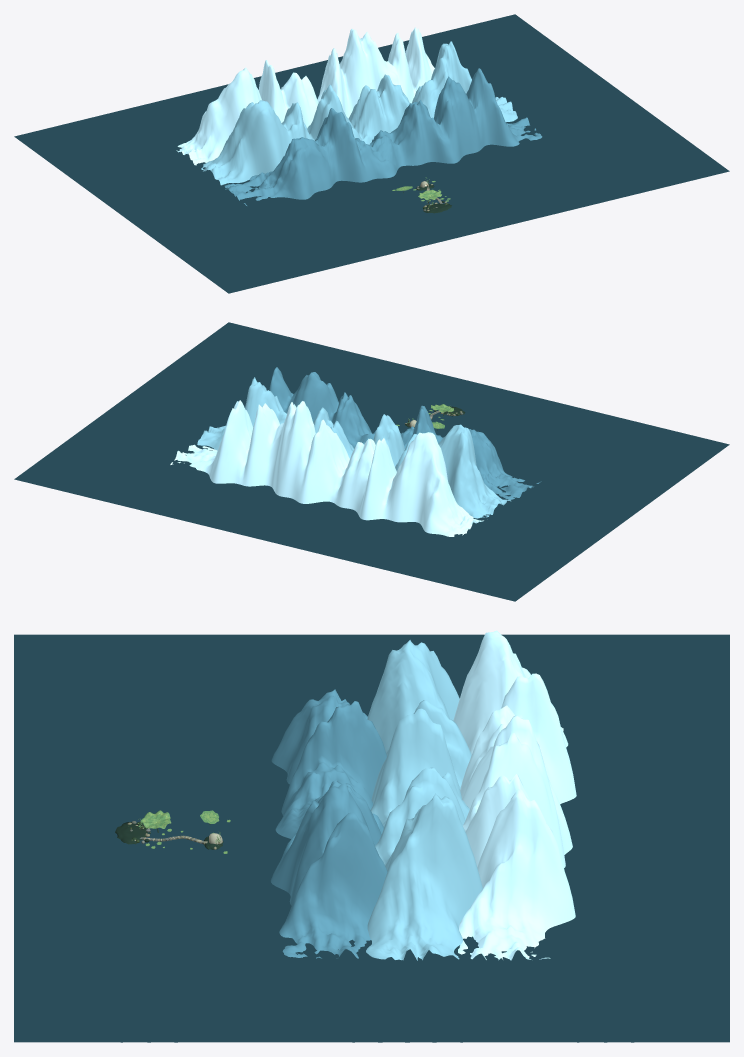
File: garden-entrance-v01.glb
The picture shows the model from 3 angles, top to bottom: view 1: azimuth 30°, elevation 25°; view 2: azimuth 150°, elevation 25°; view 3: azimuth 270°, elevation 25°; orthographic projection. The views are drawn at different scales.
Parts seen in each view (by area): view 1: Lake_Surface, Ridge depth 1, Ridge depth 3, Ridge depth 2; view 2: Lake_Surface, Ridge depth 3, Ridge depth 2, Ridge depth 1; view 3: Lake_Surface, Ridge depth 3, Ridge depth 2, Ridge depth 1.
Part boxes in pixels (bbox=[...]): Lake_Surface: bbox=[14, 14, 729, 293]; Ridge depth 1: bbox=[224, 68, 542, 205]; Ridge depth 3: bbox=[176, 27, 434, 165]; Ridge depth 2: bbox=[201, 41, 517, 185]; Lake_Surface: bbox=[14, 322, 729, 601]; Ridge depth 3: bbox=[170, 400, 483, 536]; Ridge depth 2: bbox=[197, 377, 511, 518]; Ridge depth 1: bbox=[269, 367, 541, 499]; Lake_Surface: bbox=[14, 634, 729, 1042]; Ridge depth 3: bbox=[453, 630, 576, 960]; Ridge depth 2: bbox=[366, 640, 482, 960]; Ridge depth 1: bbox=[271, 689, 387, 958].
Size of the model in its own units: 310 by 53.18 by 230.
